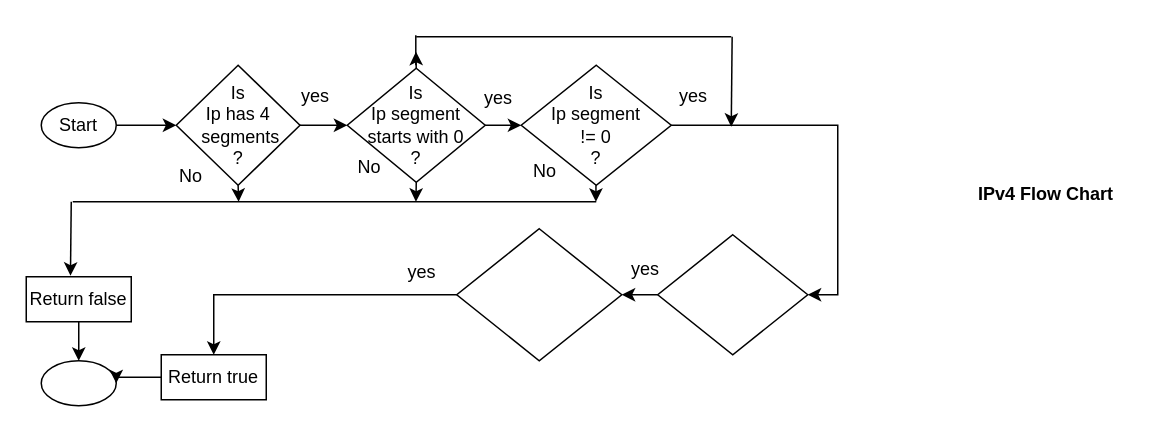
This 1163x432 diagram has some shape labels left out. The centre of each missing label's shape, as x and y in pixels:
"End" goes at point 78,382.
"Is Ip segment between 0 and 255 ?" goes at point 538,294.
"Is Ip segment Integer value ?" goes at point 732,294.
